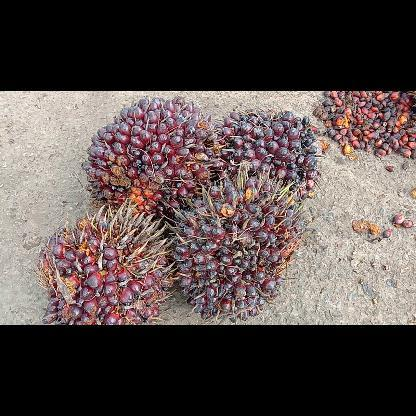Kurang masak: (168, 176, 304, 322), (35, 202, 177, 324), (212, 108, 322, 206)
TBS masak: (79, 90, 227, 226)
